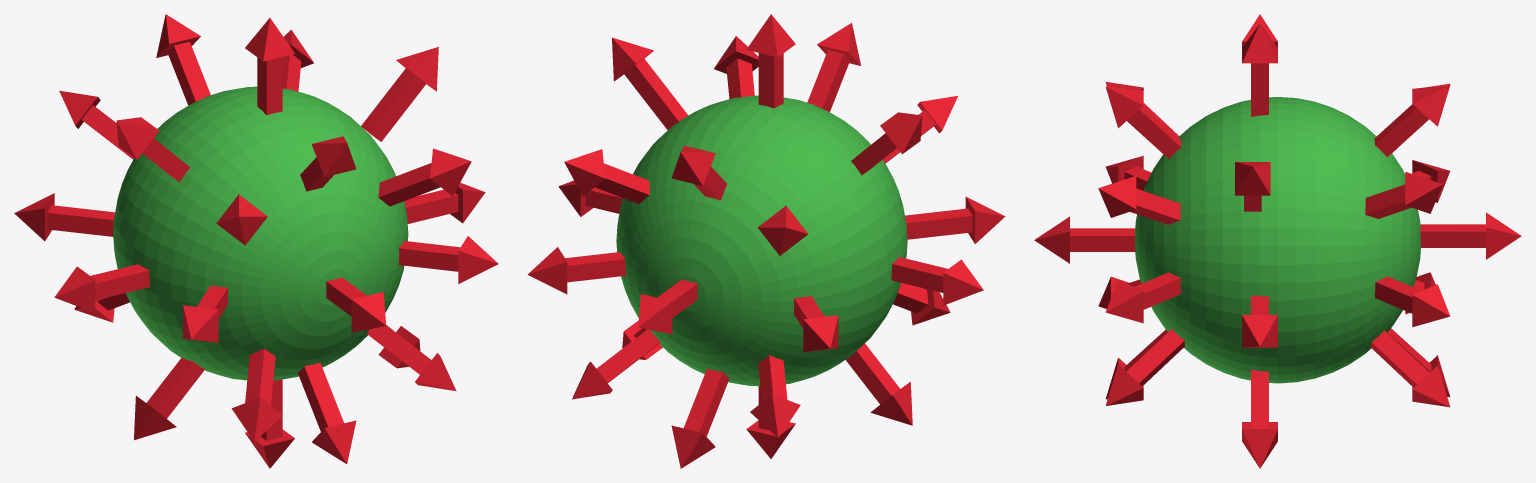
The model's file is covid.obj.
The picture shows the model from 3 angles, left to right: view 1: azimuth 30°, elevation 25°; view 2: azimuth 150°, elevation 25°; view 3: azimuth 270°, elevation 25°; orthographic projection. The views are drawn at different scales.
Visible parts, largest first — view 1: group_0_4634441, group_0_15277357; view 2: group_0_4634441, group_0_15277357; view 3: group_0_4634441, group_0_15277357.
Part boxes in pixels (x1,y1,x2,y2): group_0_4634441: [113, 86, 408, 380]; group_0_15277357: [14, 14, 498, 468]; group_0_4634441: [616, 95, 907, 386]; group_0_15277357: [527, 14, 1005, 468]; group_0_4634441: [1135, 97, 1420, 383]; group_0_15277357: [1034, 14, 1521, 468].
Bounding box in the file's own units: 67.5 × 67.5 × 68.
